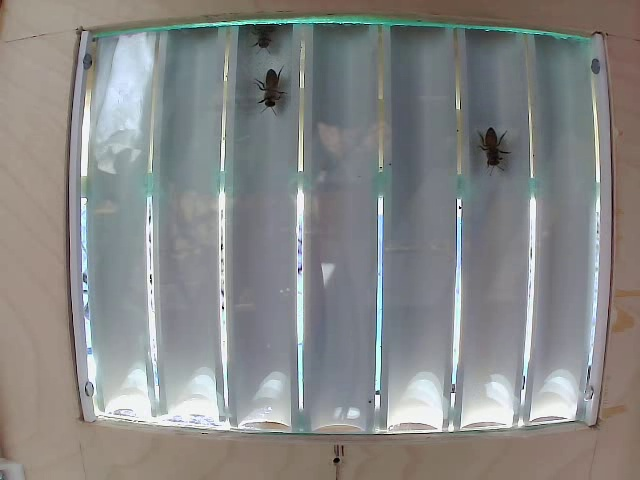bee: (480, 118, 510, 178), (252, 77, 294, 117), (256, 26, 291, 71)
